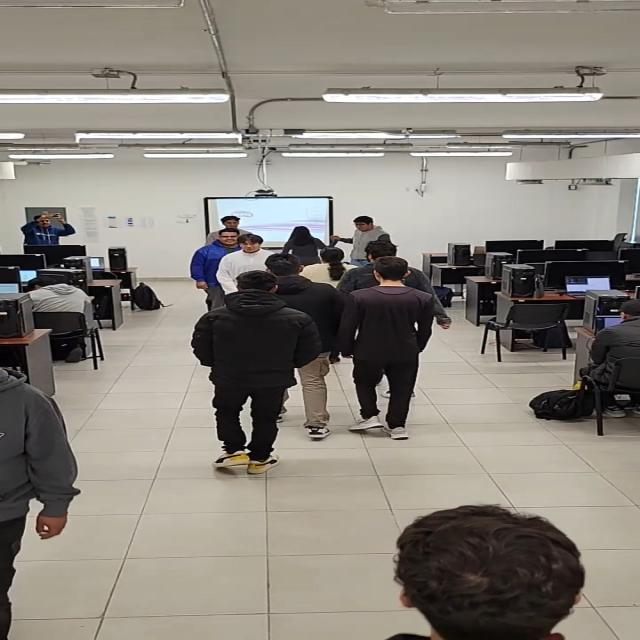Persona: (198, 271, 297, 479), (353, 262, 422, 434), (19, 210, 82, 248), (341, 217, 389, 266), (197, 230, 241, 278), (276, 224, 326, 264), (313, 248, 347, 287), (232, 235, 264, 273), (209, 213, 258, 231)
